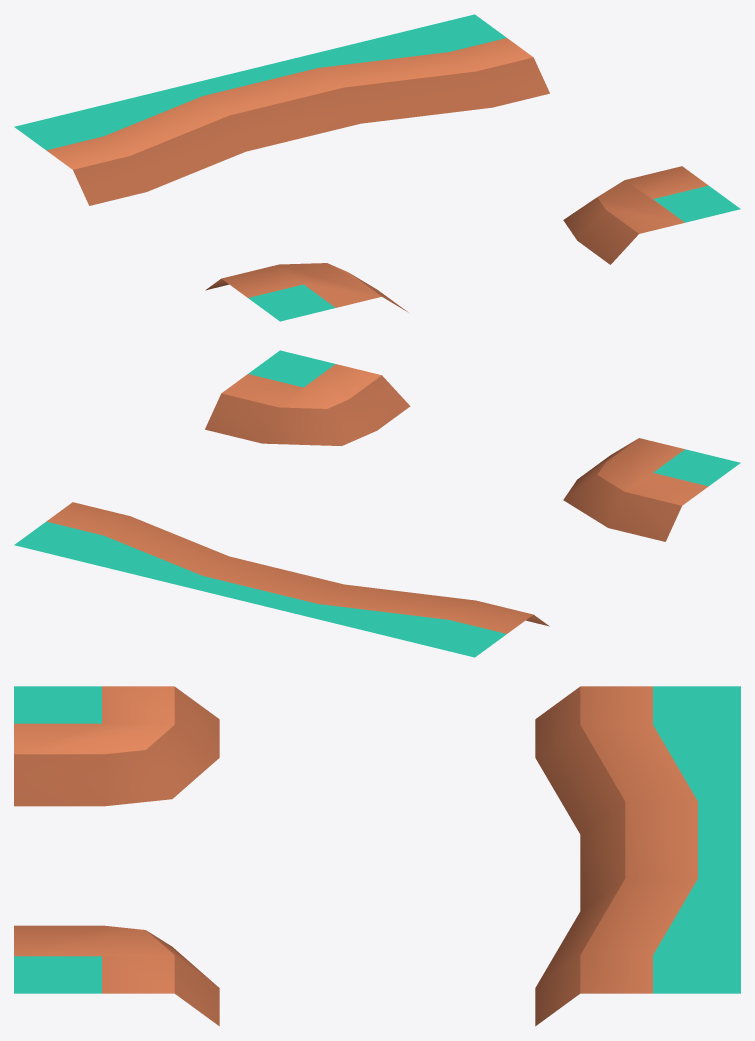
File: beachside2corner.obj
The picture shows the model from 3 angles, top to bottom: view 1: azimuth 30°, elevation 25°; view 2: azimuth 150°, elevation 25°; view 3: azimuth 270°, elevation 25°; orthographic projection. The views are drawn at different scales.
Parts seen in each view (by area): view 1: ground_riverSplit.001; view 2: ground_riverSplit.001; view 3: ground_riverSplit.001.
Part boxes in pixels (<box>): ground_riverSplit.001: <box>14,14,740,321</box>; ground_riverSplit.001: <box>14,350,740,657</box>; ground_riverSplit.001: <box>14,686,740,1026</box>.
Bounding box in the file's own units: 1 × 0.05 × 1.
